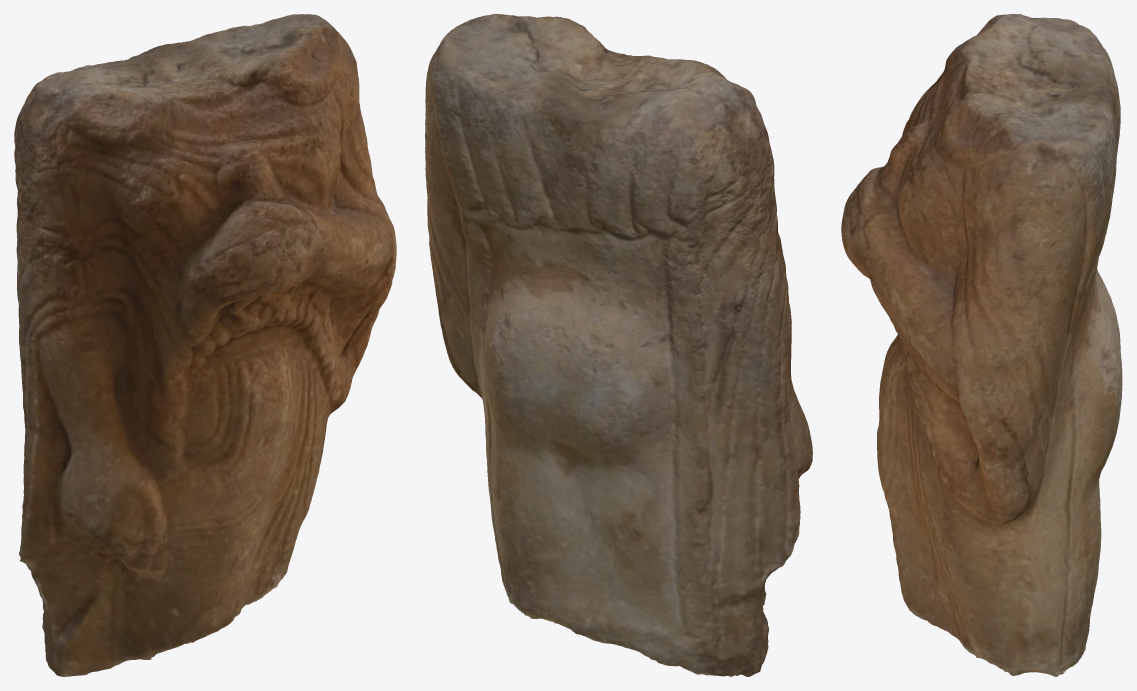
File: preview.glb
The picture shows the model from 3 angles, left to right: view 1: azimuth 30°, elevation 25°; view 2: azimuth 150°, elevation 25°; view 3: azimuth 270°, elevation 25°; orthographic projection. The views are drawn at different scales.
Parts seen in each view (by area): view 1: Object_2; view 2: Object_2; view 3: Object_2.
Part boxes in pixels (bbox=[...]): Object_2: bbox=[14, 14, 396, 676]; Object_2: bbox=[425, 14, 812, 676]; Object_2: bbox=[841, 14, 1122, 676].
Bounding box in the file's own units: 2.65 × 4.12 × 1.7.
1 material, 1 textured.
